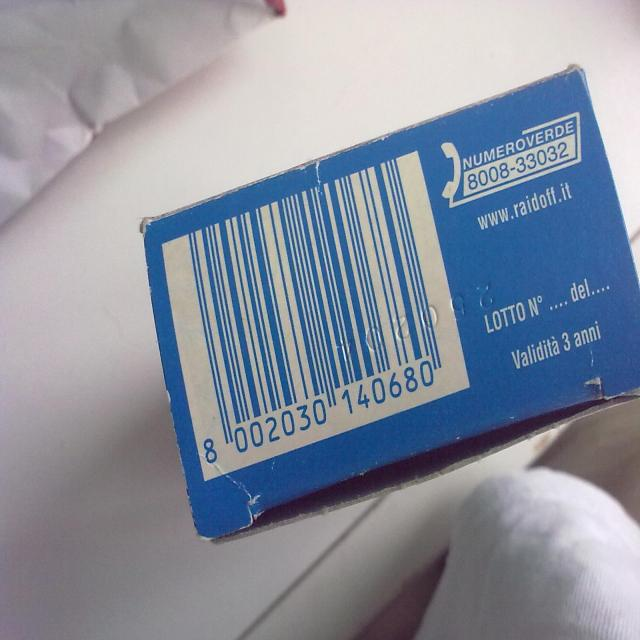barcode: (162, 153, 469, 482)
